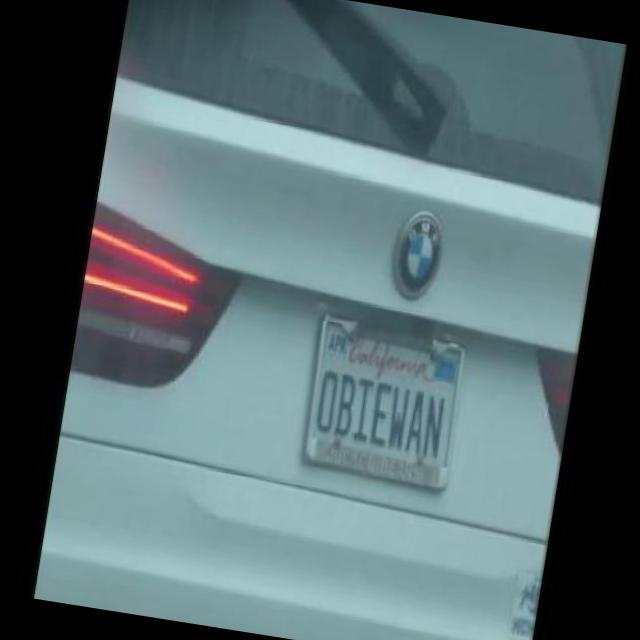LicensePlate: (294, 305, 476, 493)
